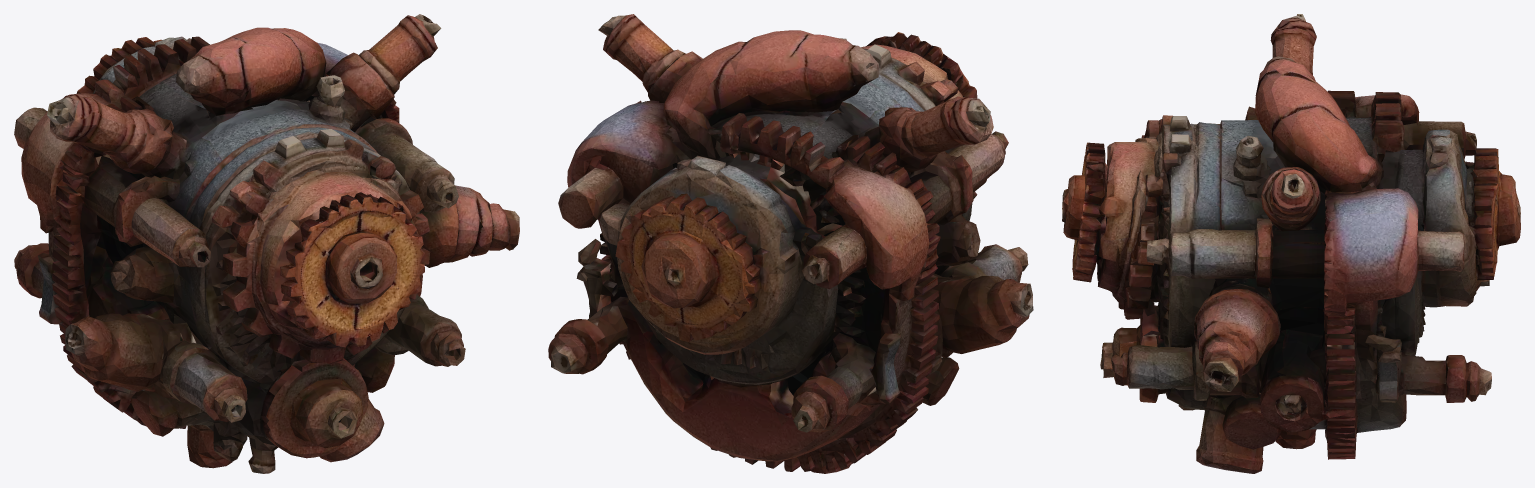
The model's file is wing (278).glb.
3 renders of one model, left to right at view 1: azimuth 30°, elevation 25°; view 2: azimuth 150°, elevation 25°; view 3: azimuth 270°, elevation 25°, orthographic. The views are drawn at different scales.
Visible parts, largest first — view 1: Hy21_Mesh.obj; view 2: Hy21_Mesh.obj; view 3: Hy21_Mesh.obj.
Boxes of the visible parts, box(x1,y1,x2,y2) form: Hy21_Mesh.obj: box(14, 14, 519, 473); Hy21_Mesh.obj: box(548, 14, 1033, 473); Hy21_Mesh.obj: box(1062, 14, 1520, 473).
Bounding box in the file's own units: 1.96 × 1.79 × 1.95.
1 material, 1 textured.
